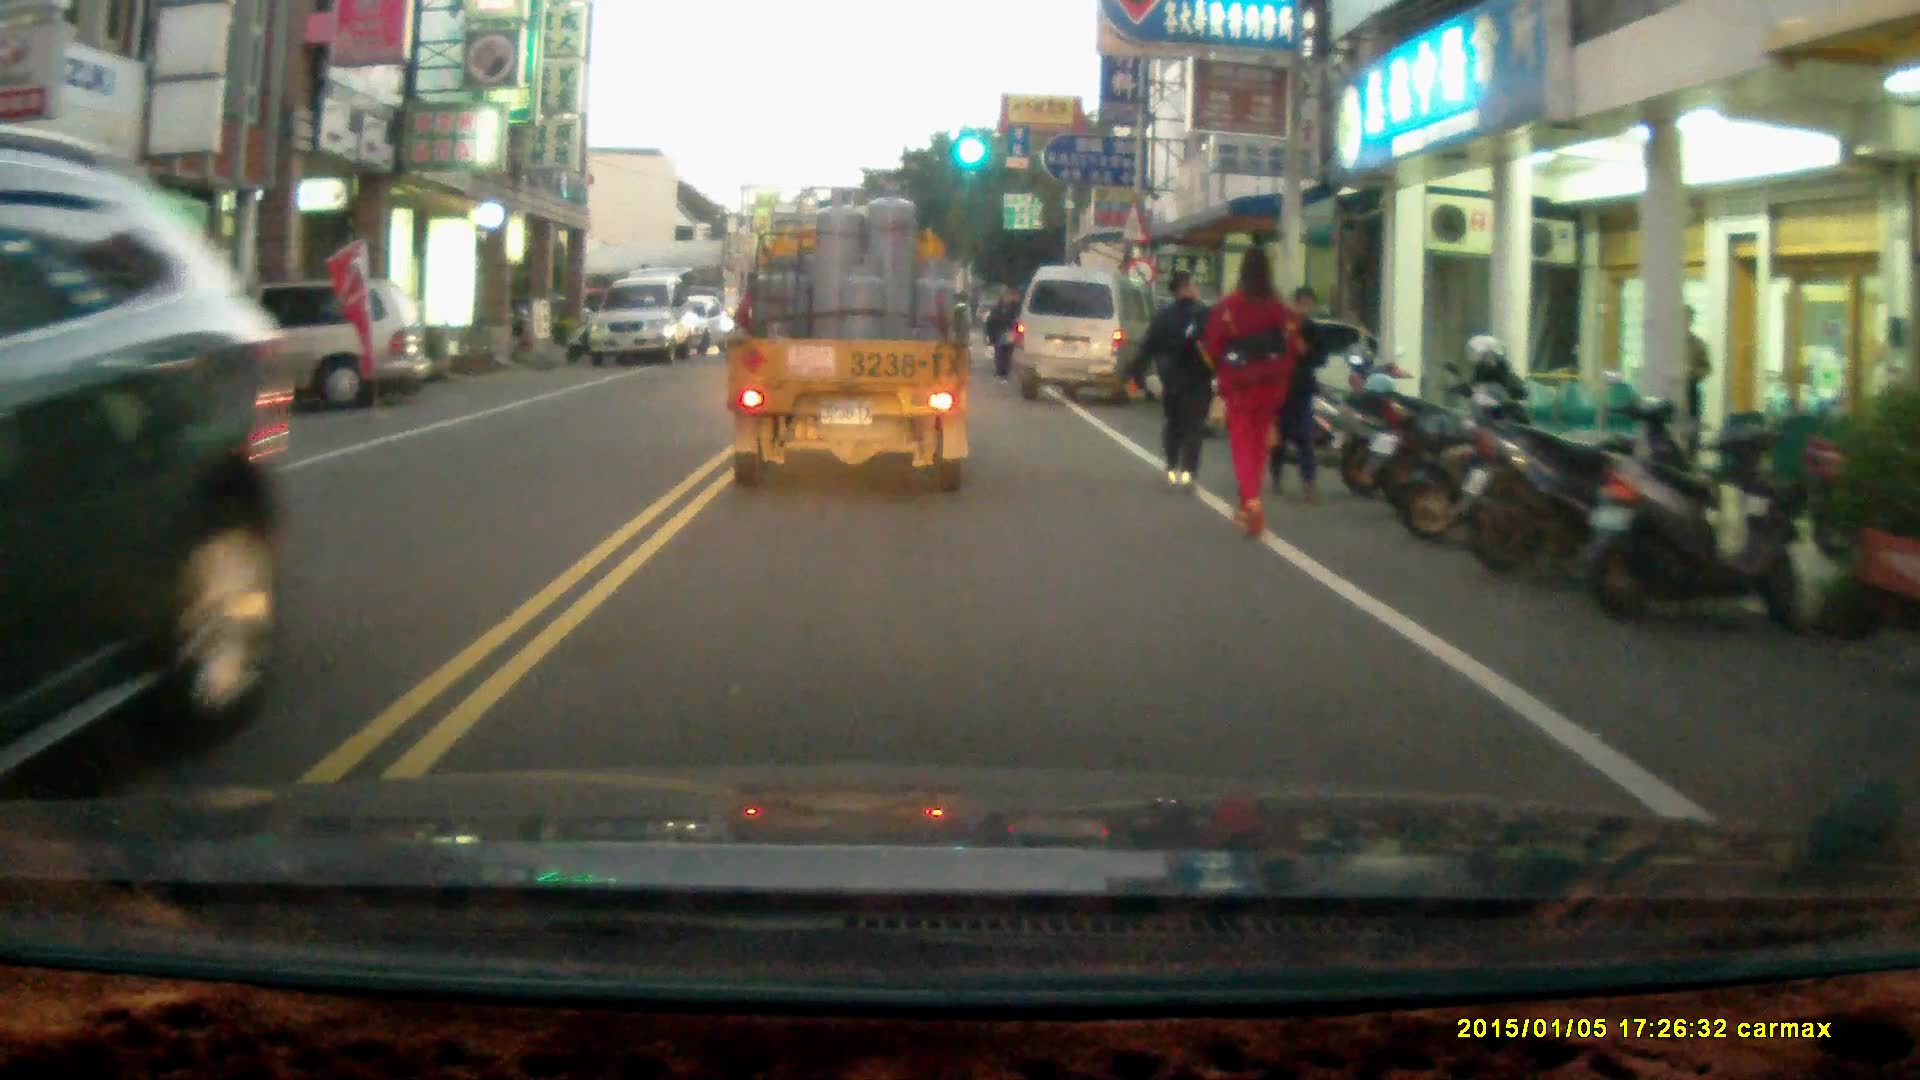pedestrian: (1206, 240, 1297, 545), (1128, 267, 1217, 493), (1269, 279, 1330, 500), (986, 292, 1020, 384)
vehicle: (1, 125, 297, 792), (717, 186, 978, 508), (141, 290, 427, 419), (1018, 263, 1160, 405), (593, 273, 706, 364)
